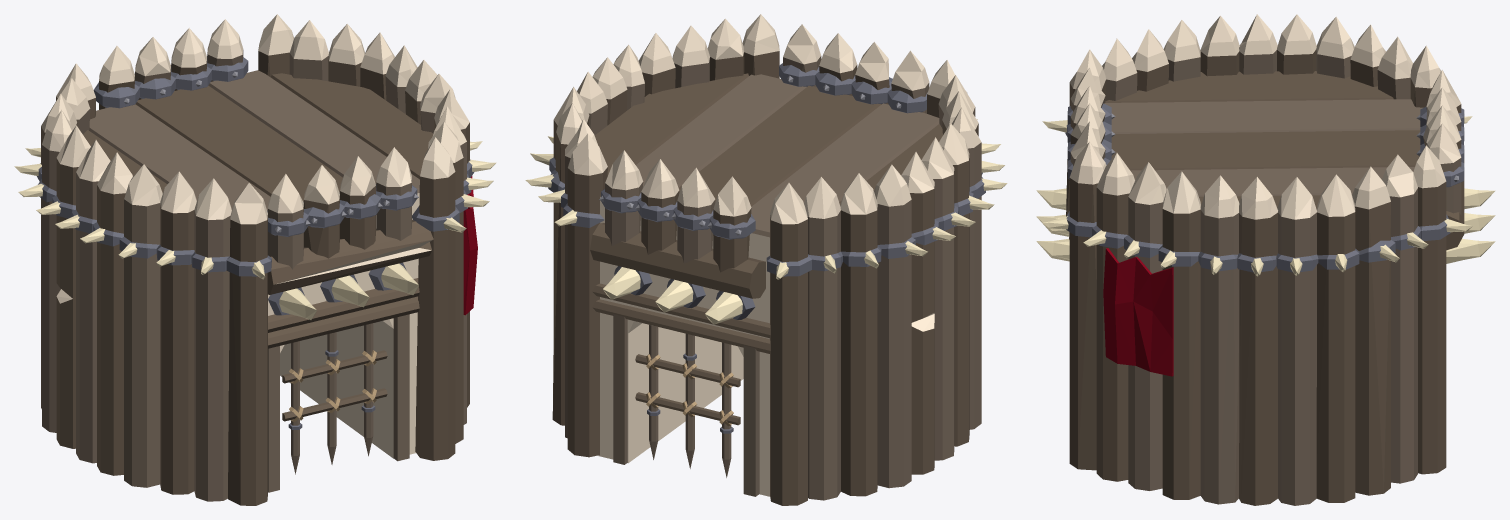
Rendered from _TOWER_02.fbx.
3 views of the same model, side by side, from view 1: azimuth 30°, elevation 25°; view 2: azimuth 150°, elevation 25°; view 3: azimuth 270°, elevation 25° (orthographic).
Parts seen in each view (by area): view 1: TOWER_02; view 2: TOWER_02; view 3: TOWER_02.
Part boxes in pixels (left/top/right/bottom): TOWER_02: left=14, top=14, right=496, bottom=505; TOWER_02: left=525, top=14, right=1007, bottom=505; TOWER_02: left=1036, top=14, right=1495, bottom=505.
Bounding box in the file's own units: 1135 × 839 × 1085.
